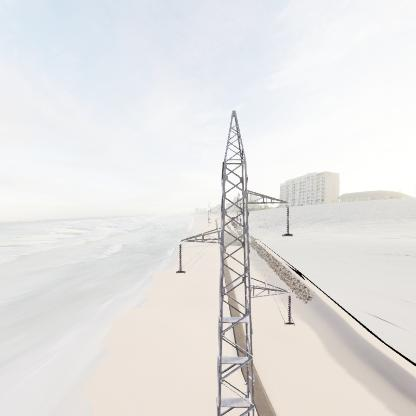tower: (175, 108, 297, 416)
